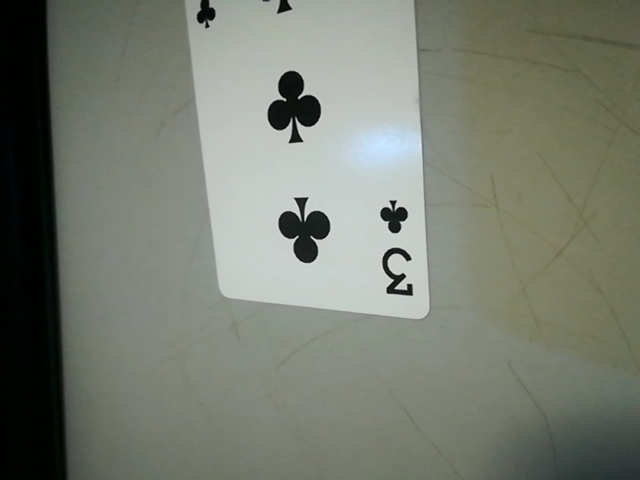mh 3: (369, 193, 428, 309)
